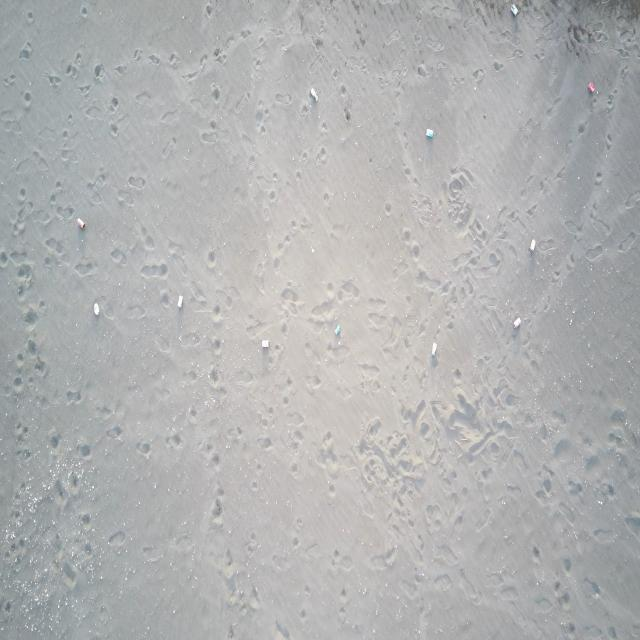Garbage: (308, 88, 317, 101), (92, 301, 99, 316), (587, 80, 595, 92), (528, 239, 535, 252), (424, 128, 432, 138), (333, 324, 340, 335), (512, 318, 520, 327), (511, 4, 517, 16), (76, 218, 83, 228), (431, 342, 436, 356), (176, 295, 181, 307), (261, 340, 267, 347)
